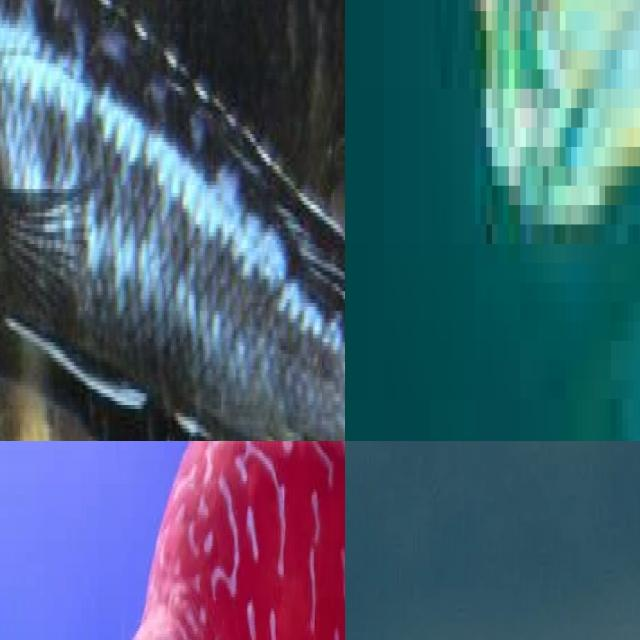fish: (0, 0, 345, 441), (21, 441, 345, 640)
